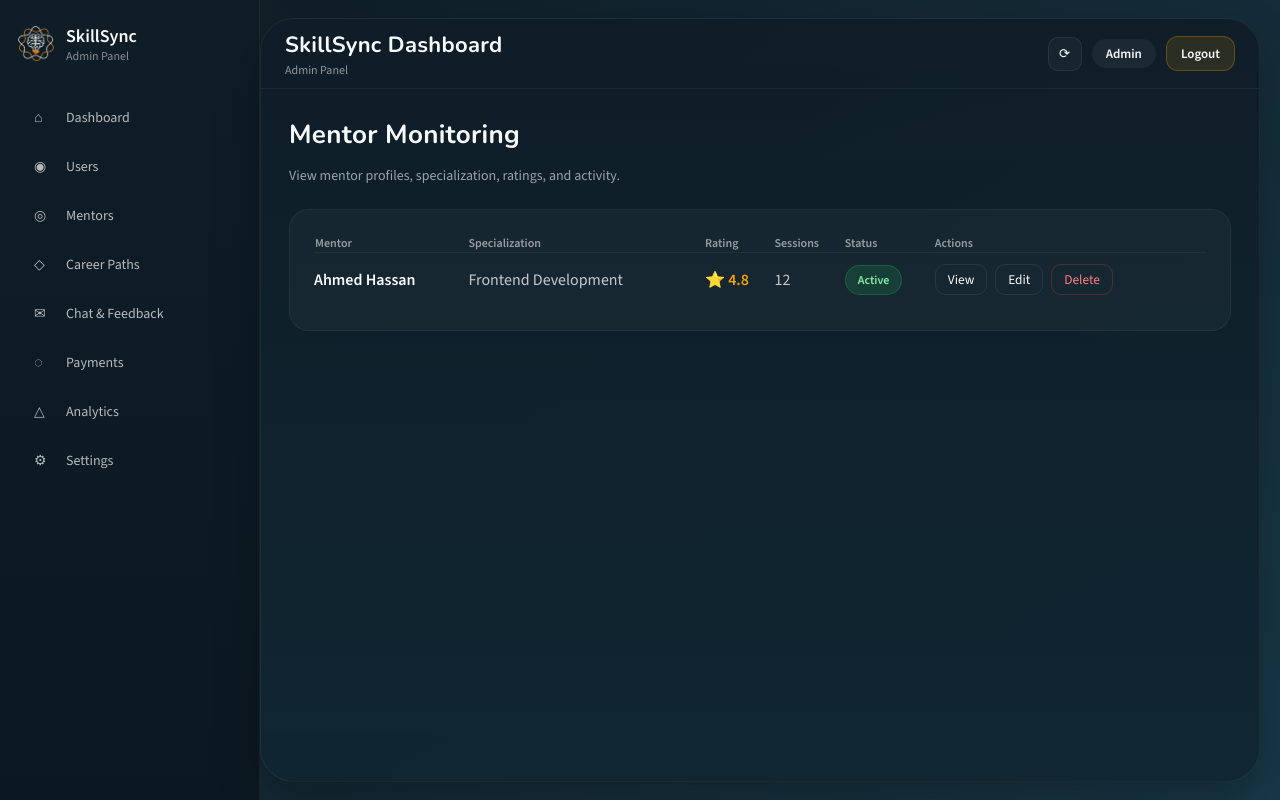
Mentor Management Page › opens edit modal when edit is clicked
The image size is (1280, 800).
Expected: the text "Ahmed Hassan" is shown, [314,252,467,306]
Click the button "Edit" at (1019, 280), box [995,264,1043,295]
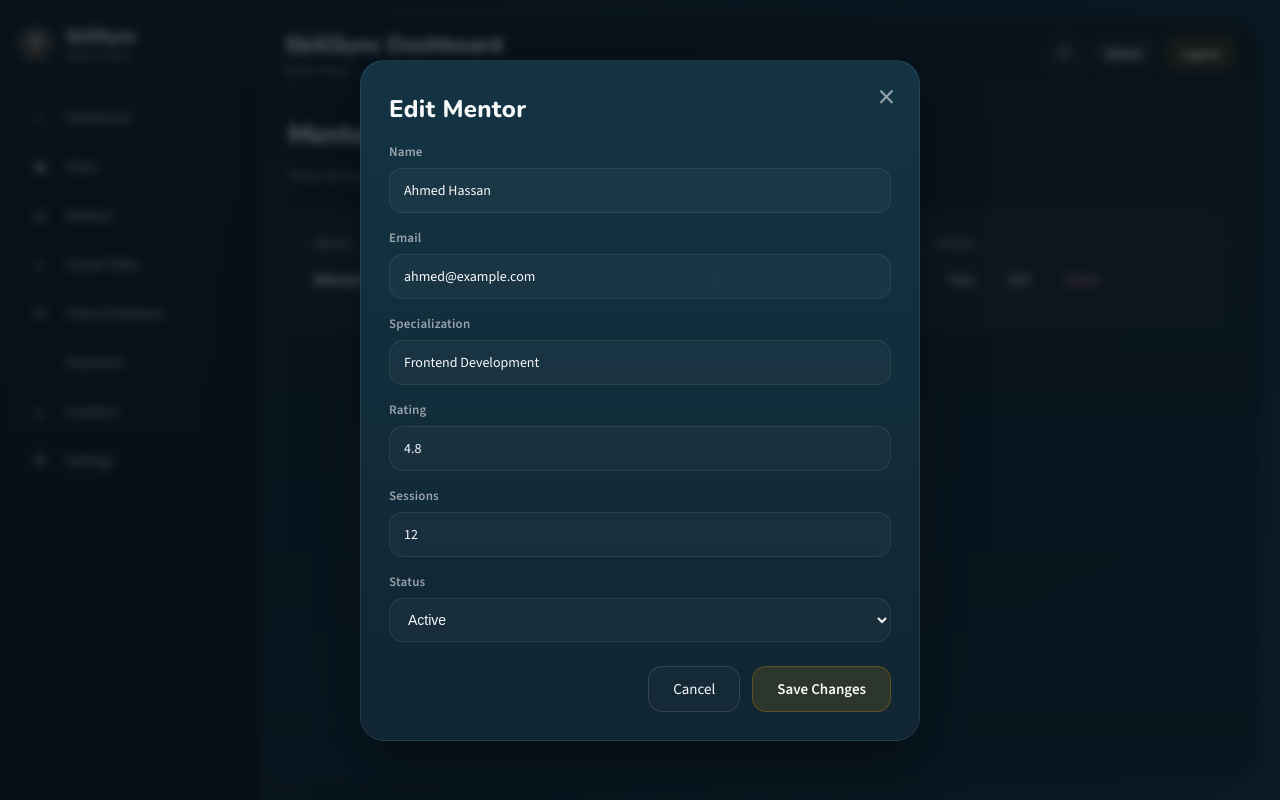
Expected: the heading "Edit Mentor" is shown, [389,92,526,124]
Expected: the field showing "Ahmed Hassan" below "Name" is shown, [389,168,891,212]
